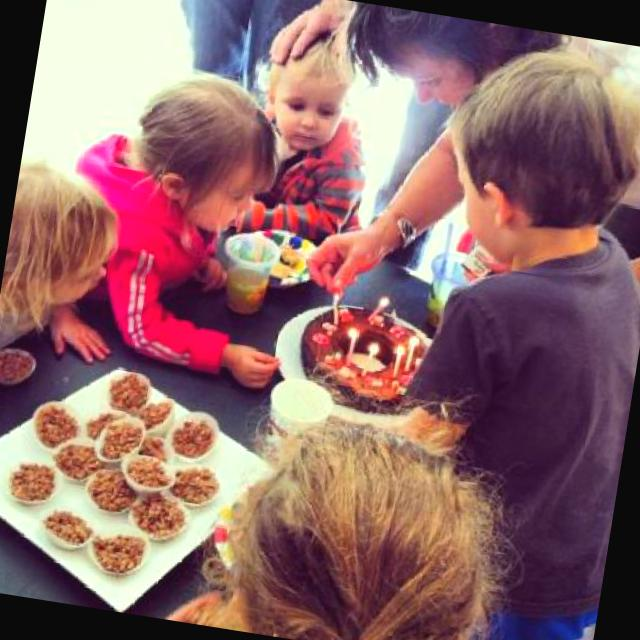Person: (0, 0, 640, 640), (307, 1, 640, 347), (48, 52, 327, 392), (240, 31, 392, 243), (164, 0, 325, 93)
